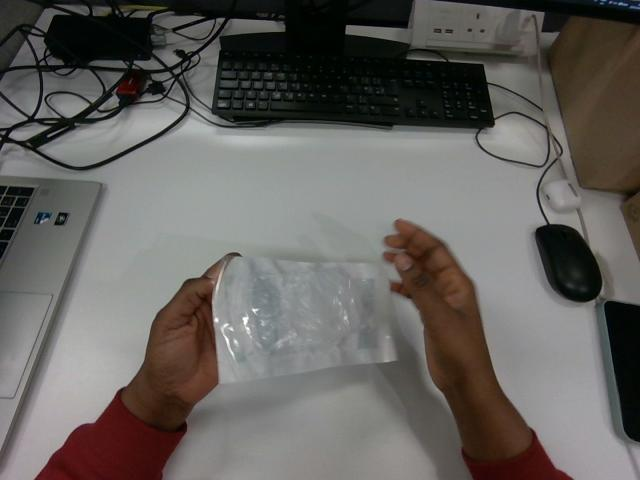gallipot: (212, 257, 396, 382)
